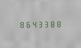eight: (17, 20, 22, 28), (47, 19, 52, 27), (53, 19, 58, 27)
four: (29, 20, 34, 28)
six: (23, 20, 28, 28)
three: (41, 19, 46, 27), (35, 20, 40, 27)
